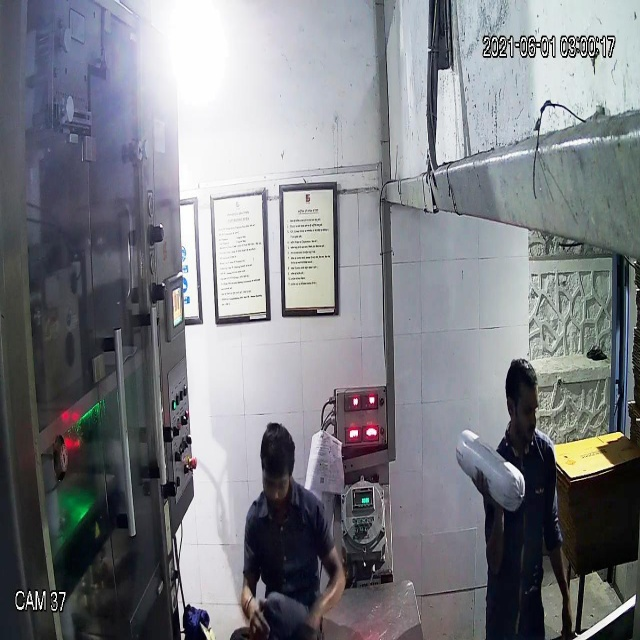Sin_gafas: (254, 469, 297, 504)
